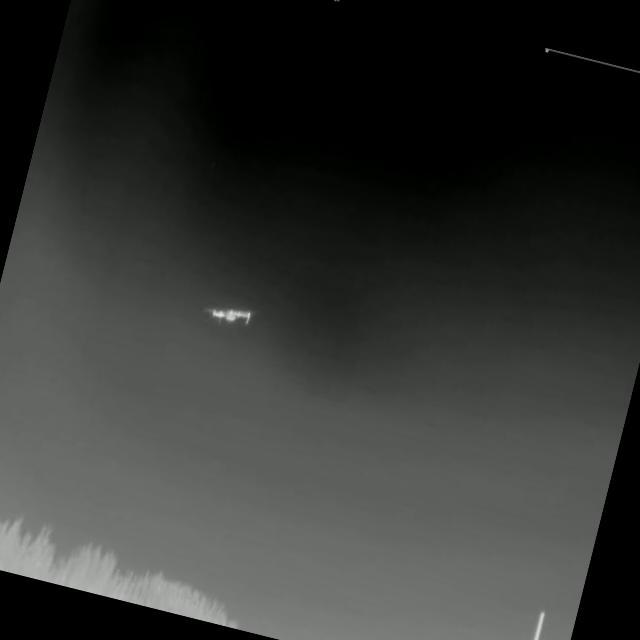DRONE: (192, 286, 264, 340)
